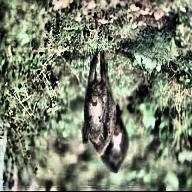boar: (64, 63, 123, 171)
